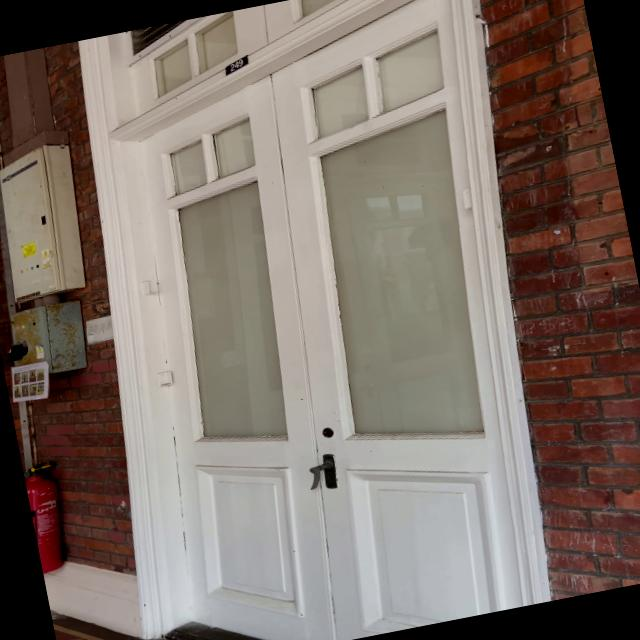room249: (218, 54, 258, 78)
